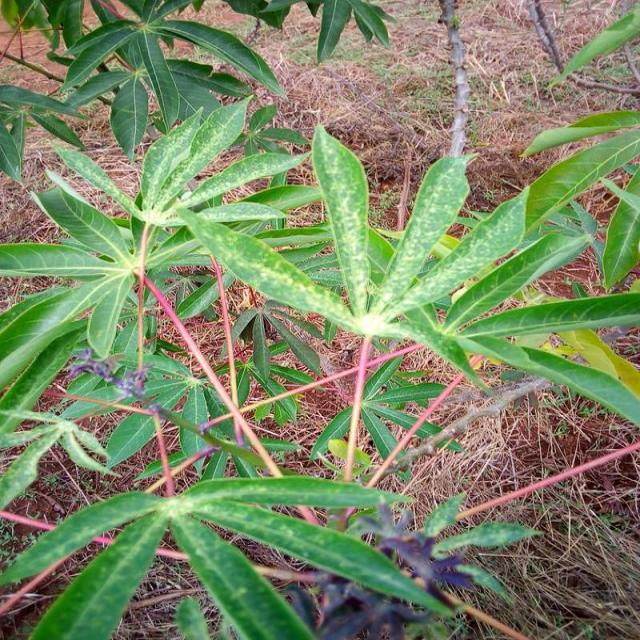cassava leaf: (2, 92, 639, 638), (373, 150, 479, 320), (312, 121, 371, 318)
